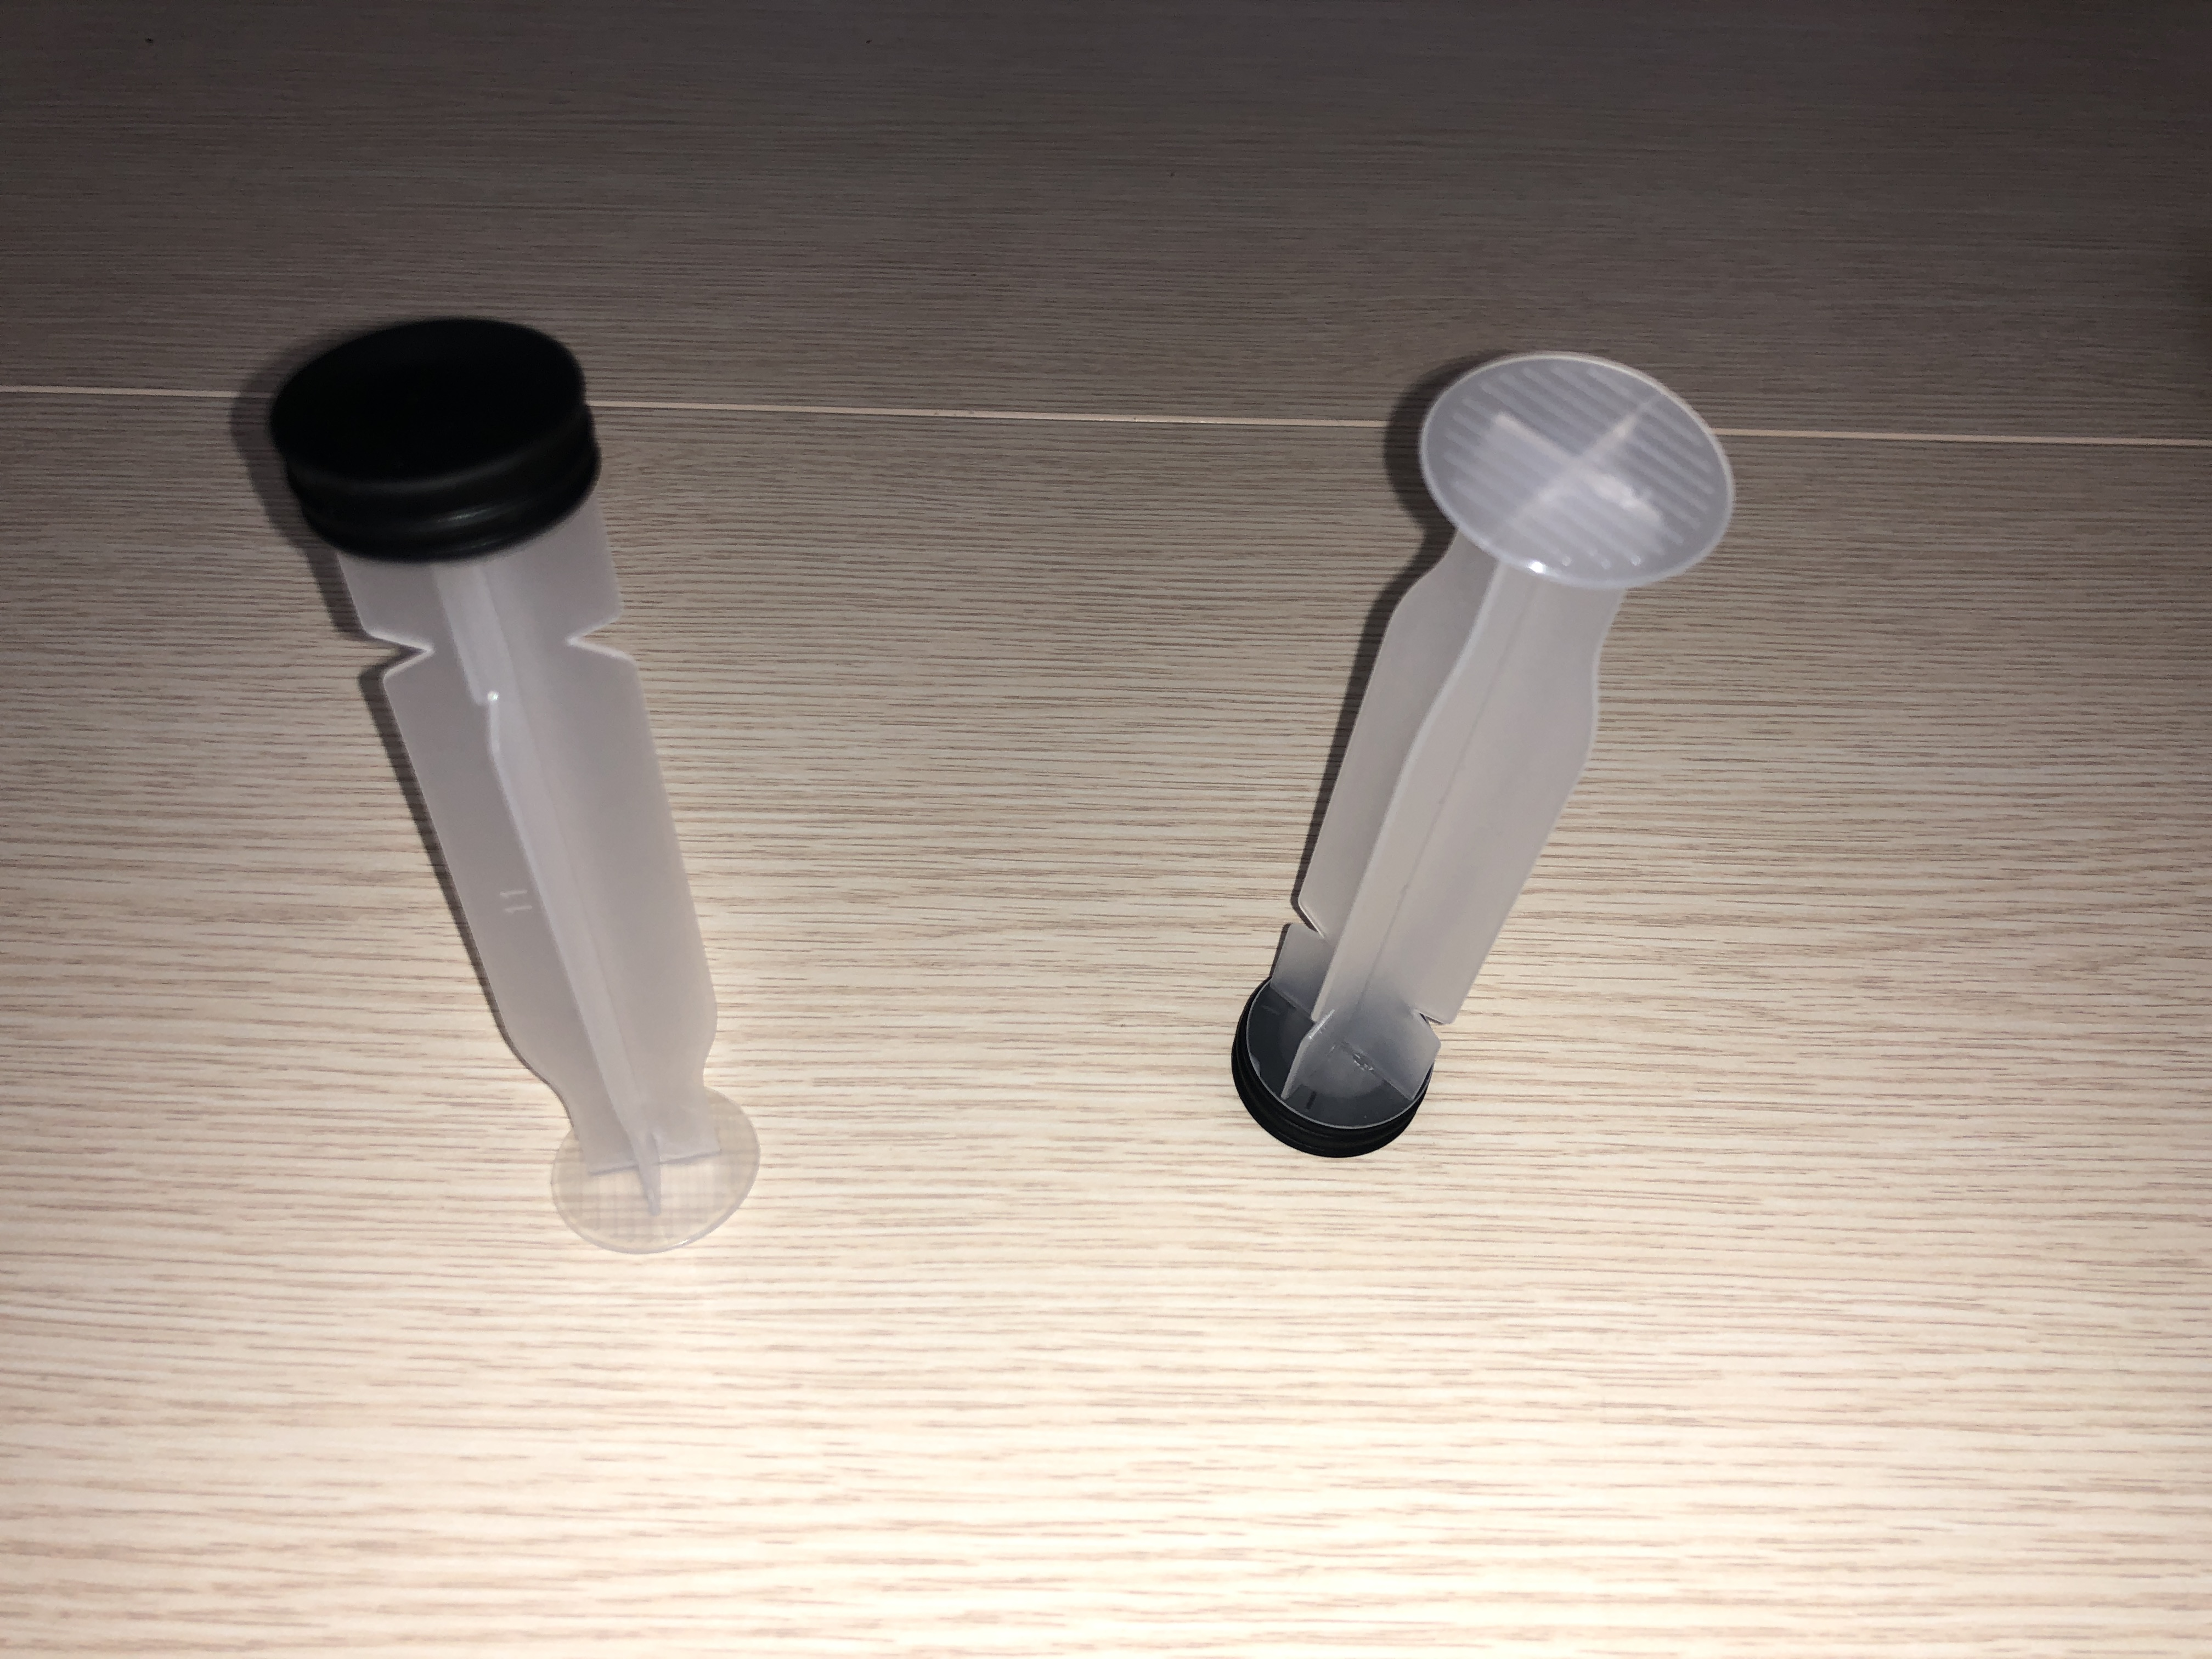plunger: (263, 312, 766, 1253), (1223, 335, 1749, 1162)
